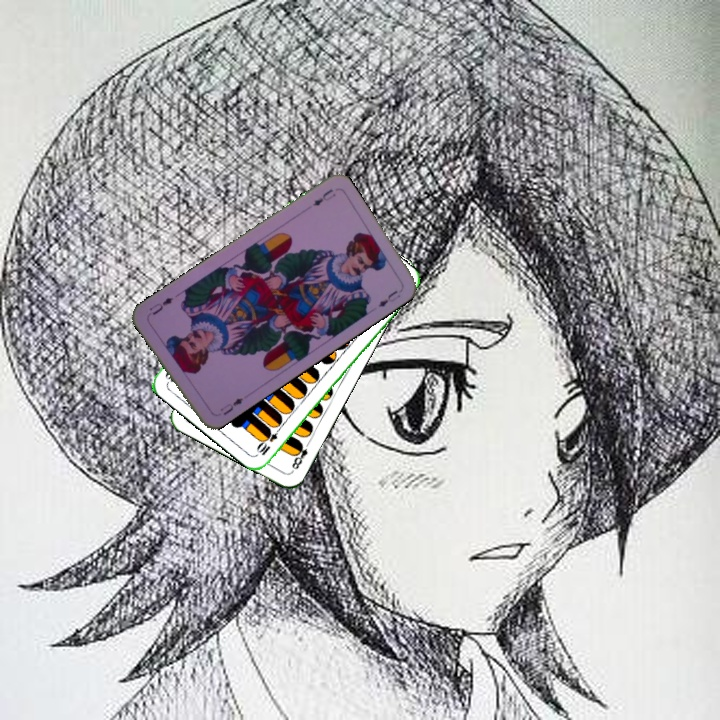E10: (253, 421, 284, 458)
E8: (288, 437, 313, 474)
EU: (216, 394, 246, 418), (309, 185, 339, 209)
